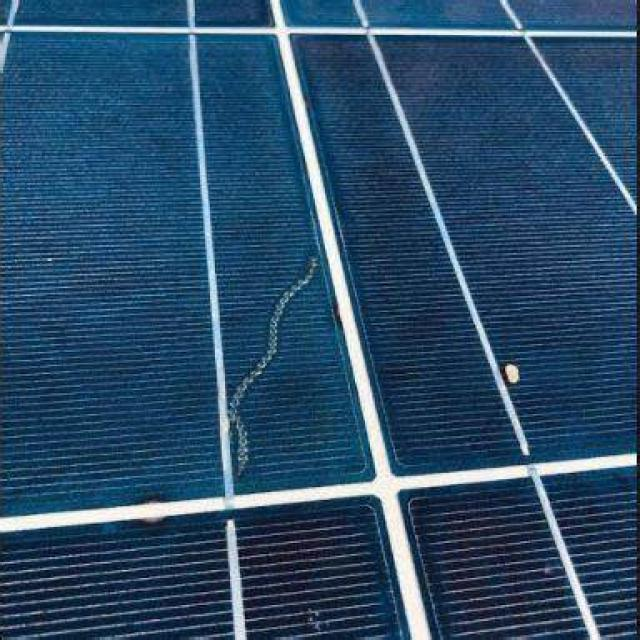Electrical-damage: (220, 250, 324, 490), (499, 361, 527, 390)
